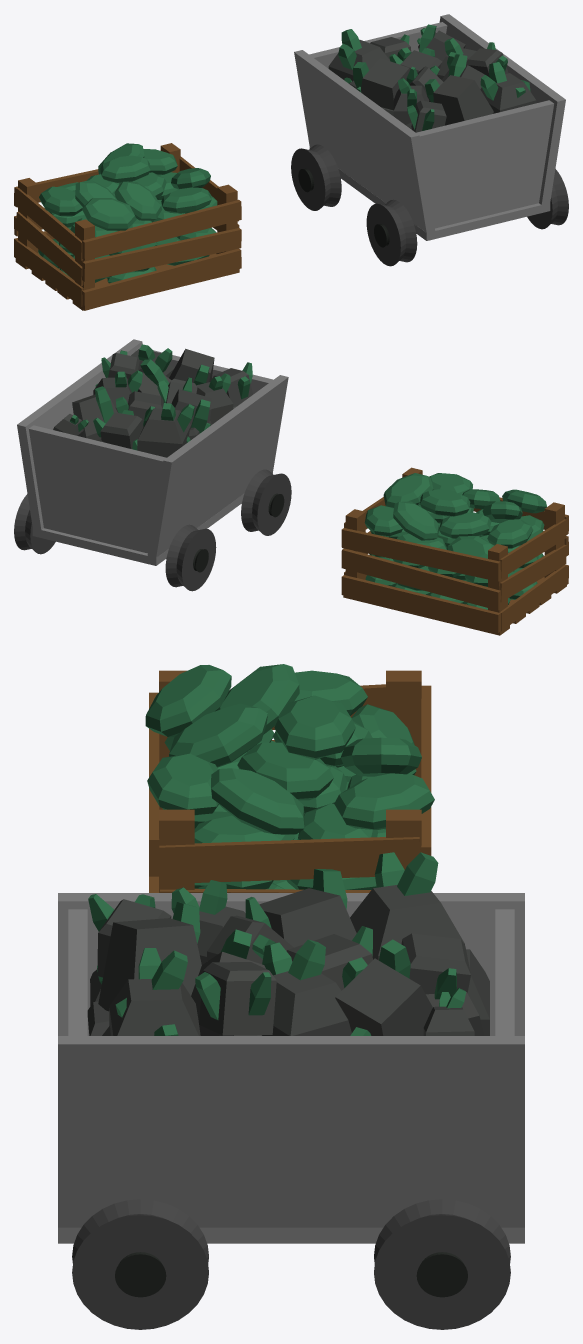
The model's file is Diamantwagen 1.fbx.
3 renders of one model, top to bottom at view 1: azimuth 30°, elevation 25°; view 2: azimuth 150°, elevation 25°; view 3: azimuth 270°, elevation 25°, orthographic. The views are drawn at different scales.
Parts seen in each view (by area): view 1: Cube.003, Cube.001; view 2: Cube.003, Cube.001; view 3: Cube.003, Cube.001.
Part boxes in pixels (x1,y1,x2,y2): Cube.003: (291, 14, 568, 266); Cube.001: (14, 143, 241, 310); Cube.003: (14, 339, 291, 591); Cube.001: (341, 467, 568, 635); Cube.003: (58, 852, 524, 1329); Cube.001: (145, 664, 434, 892).
Bounding box in the file's own units: 397 × 140 × 171.
